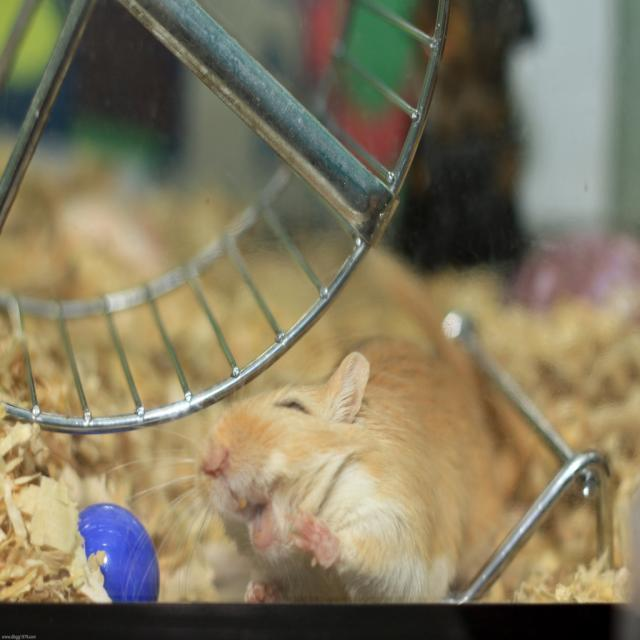rat: (192, 344, 527, 605)
